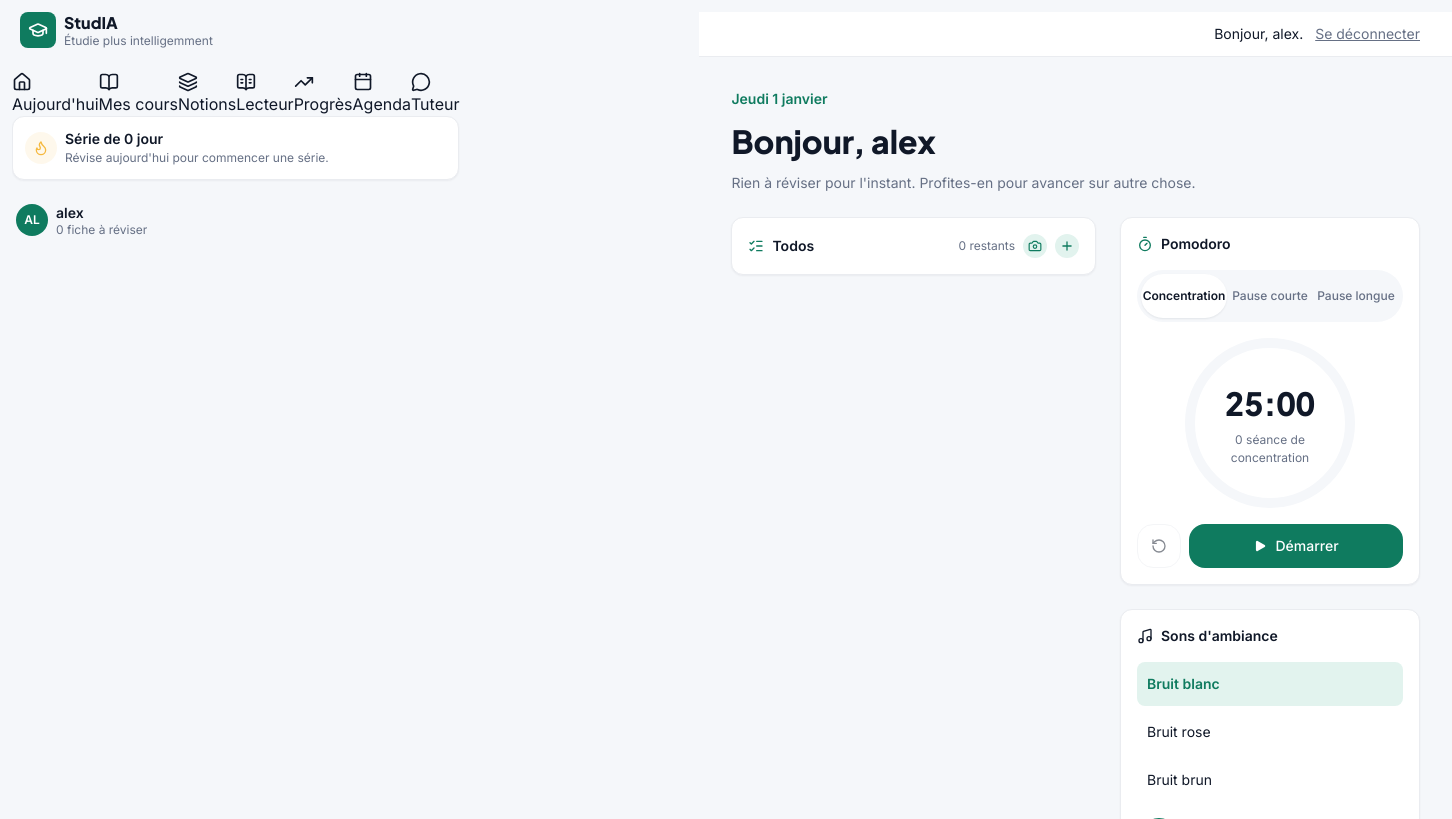
Test case: App › header bar (M10 Phase 1) › 'Se déconnecter' is migrated to the shared link variant (the 44px hit-zone mechanism), not a bare unstyled <button>, its accessible name unchanged
expect the text "Bonjour, alex." is shown: met, box [1214,24,1303,44]
Step 1. Click the button "Se déconnecter" → (1368, 34), box [1315,24,1420,44]
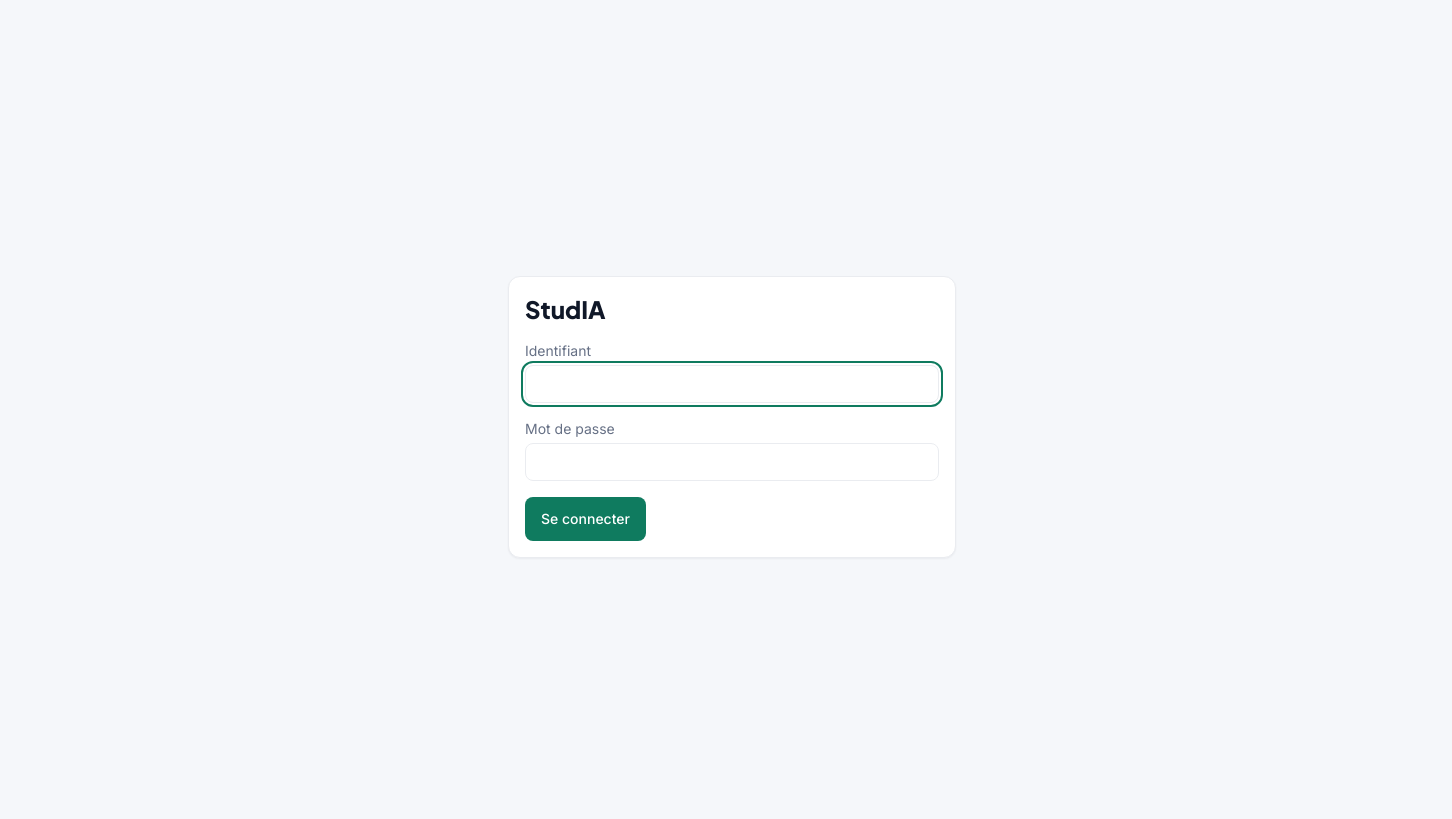
expect the button "Se connecter" is shown: met, box [525,497,646,541]
